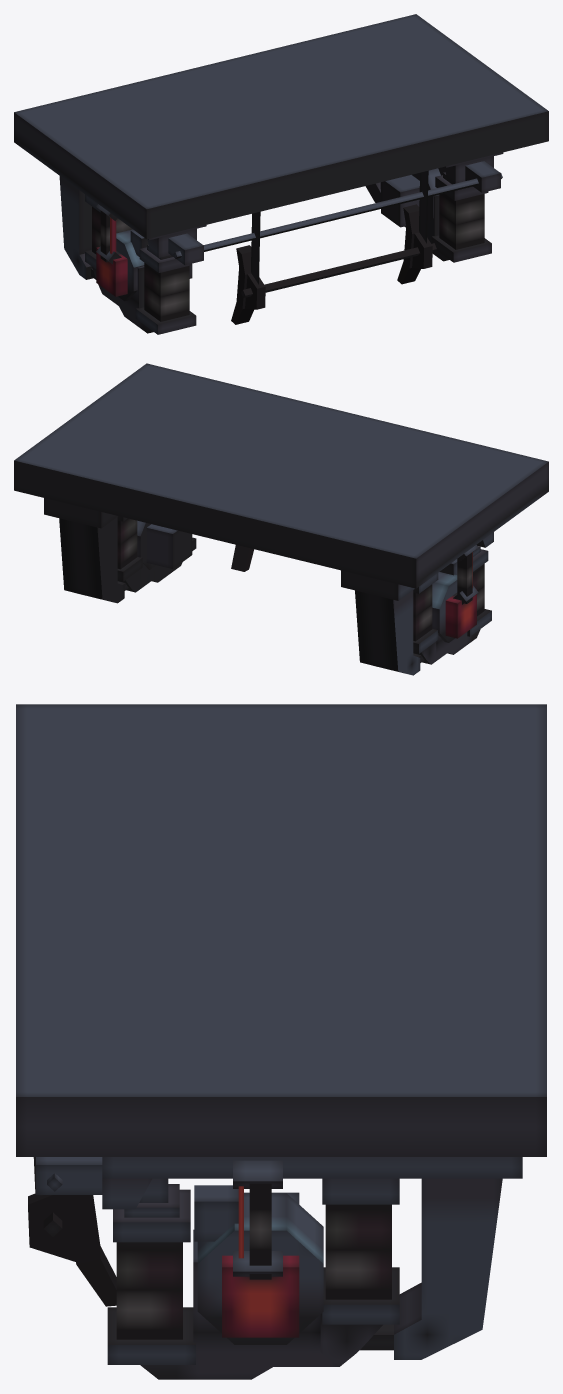
The model's file is frame.obj.
The picture shows the model from 3 angles, top to bottom: view 1: azimuth 30°, elevation 25°; view 2: azimuth 150°, elevation 25°; view 3: azimuth 270°, elevation 25°; orthographic projection. The views are drawn at different scales.
Visible parts, largest first — view 1: frame; view 2: frame; view 3: frame.
Part boxes in pixels (x1,y1,x2,y2): frame: [14, 14, 548, 334]; frame: [14, 363, 548, 675]; frame: [16, 704, 546, 1379].
Bounding box in the file's own units: 2.62 × 0.9932 × 1.5.
